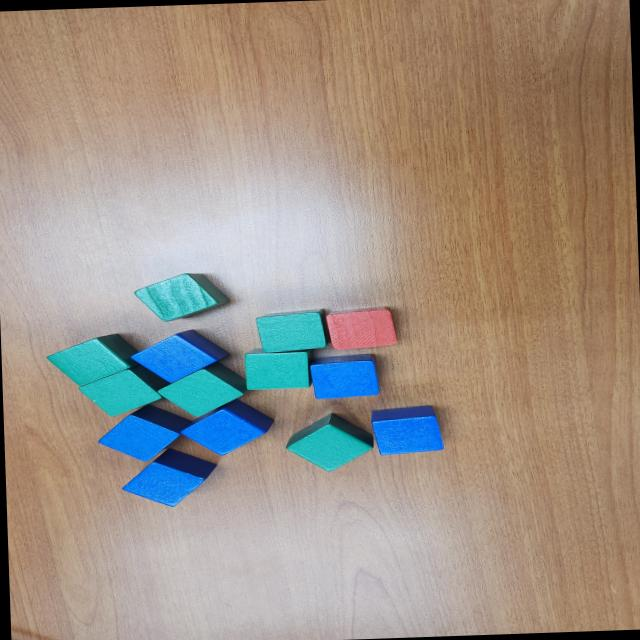blue: (120, 446, 220, 508), (126, 327, 230, 385), (178, 396, 276, 456), (96, 402, 194, 462), (370, 404, 444, 456), (306, 352, 382, 400)
green: (284, 411, 374, 474), (156, 359, 250, 419), (44, 332, 144, 386), (76, 362, 171, 418), (131, 272, 232, 322), (255, 308, 329, 352), (241, 345, 314, 389)
red: (322, 305, 398, 352)
